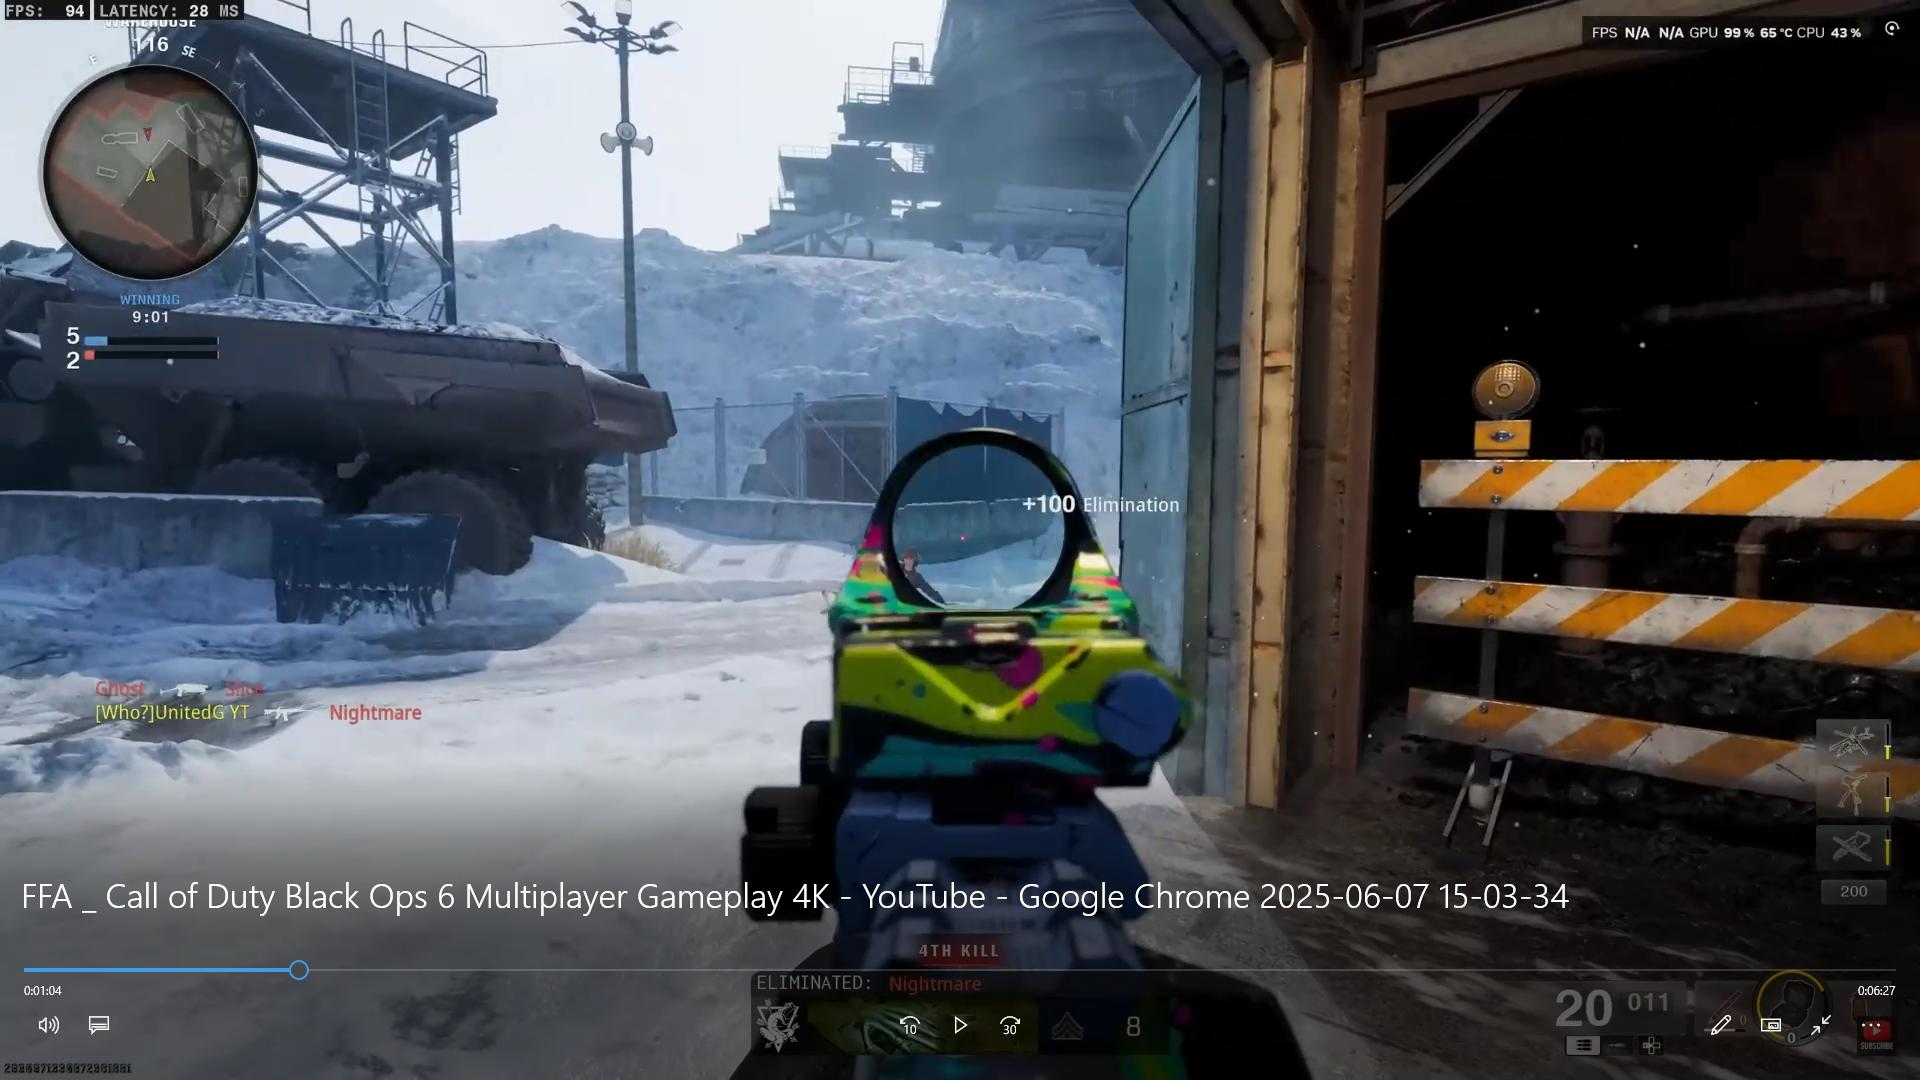Enemy: (890, 529, 951, 608)
